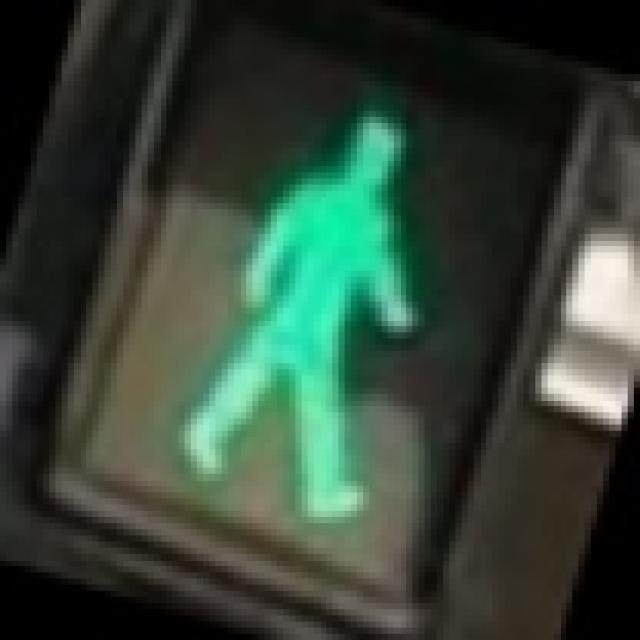green_light: (123, 61, 499, 548)
